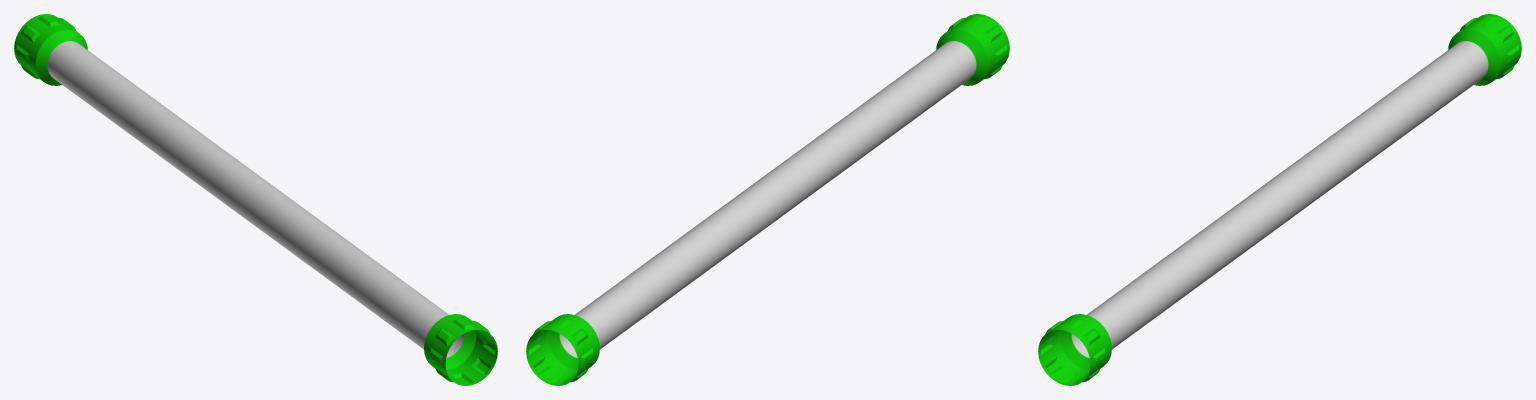
File: MOD_Cables_Var02.fbx
3 views of the same model, side by side, from view 1: azimuth 30°, elevation 25°; view 2: azimuth 150°, elevation 25°; view 3: azimuth 330°, elevation 25° (orthographic).
Parts seen in each view (by area): view 1: Cylinder.001; view 2: Cylinder.001; view 3: Cylinder.001.
Part boxes in pixels (x1=…): Cylinder.001: x1=14, y1=14, x2=497, y2=385; Cylinder.001: x1=526, y1=14, x2=1009, y2=385; Cylinder.001: x1=1038, y1=14, x2=1521, y2=385.
Size of the model in its own units: 15.05 by 15.05 by 200.
